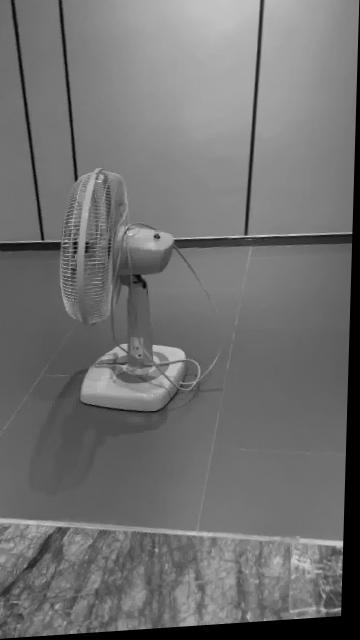Fan: (62, 170, 189, 415)
